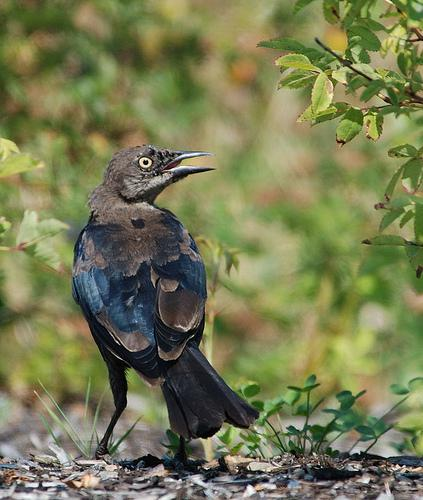009.Brewer_Blackbird: (71, 143, 262, 491)
